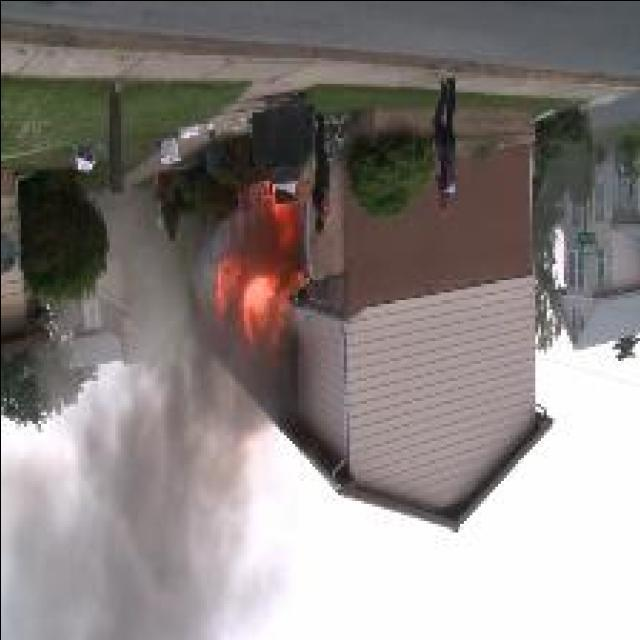Fire: (213, 253, 296, 347), (256, 180, 302, 248)
